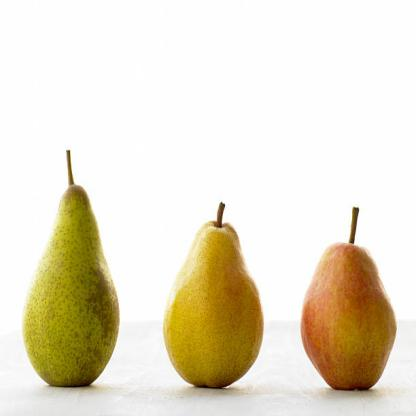Paer: (20, 150, 125, 394), (292, 198, 409, 398), (170, 200, 270, 392)
